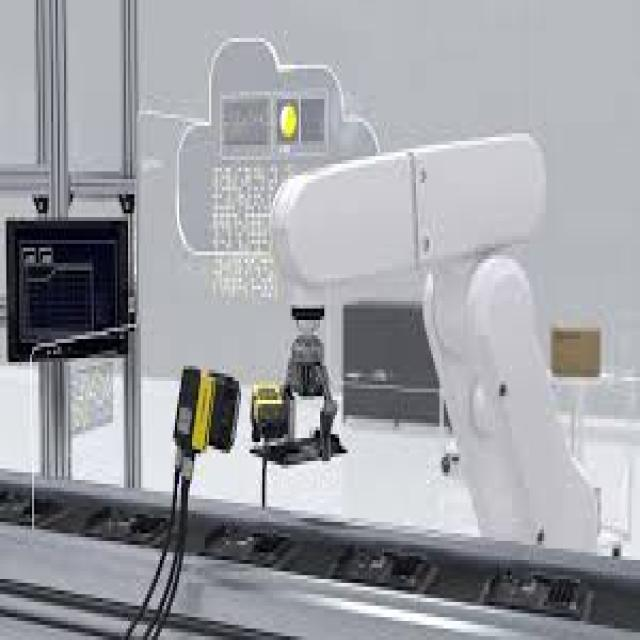Robotic-arm: (261, 125, 604, 563)
